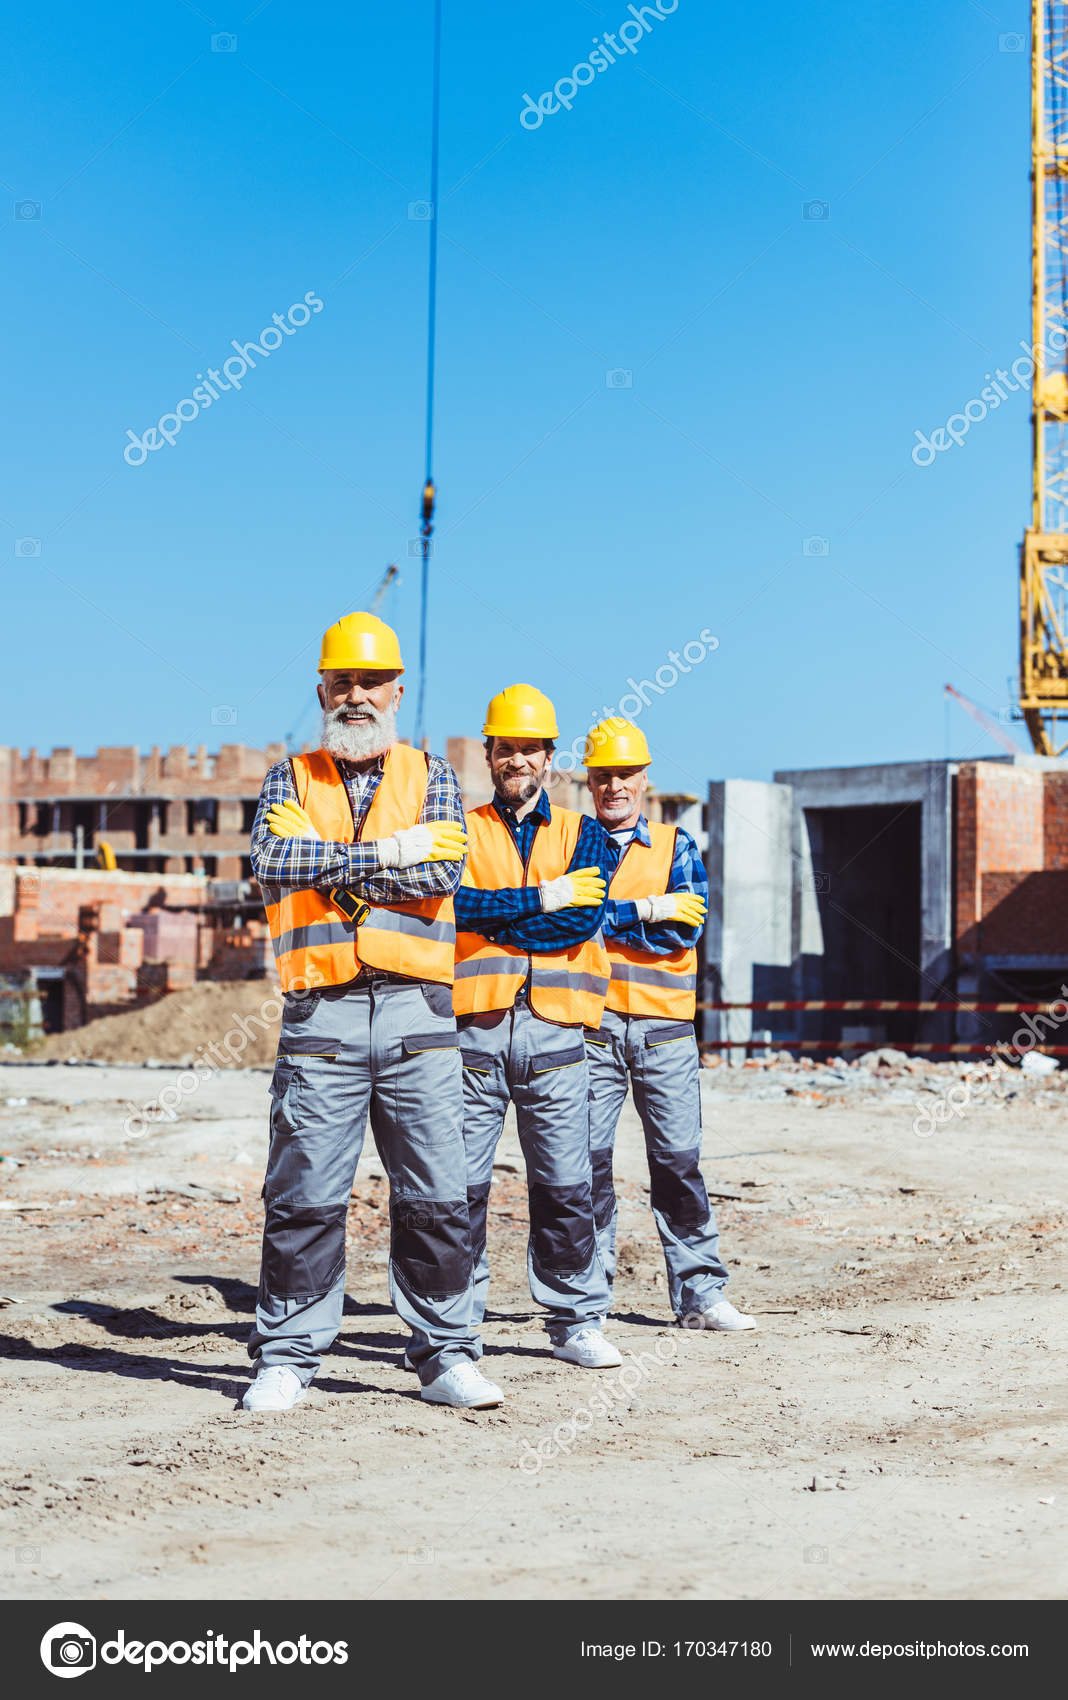With Helmet: (311, 606, 405, 763), (472, 675, 562, 804), (575, 713, 656, 820)
